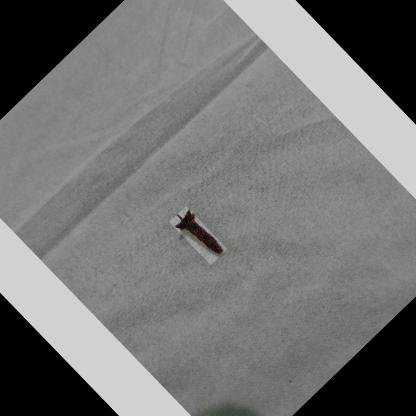buruk: (176, 209, 225, 256)
